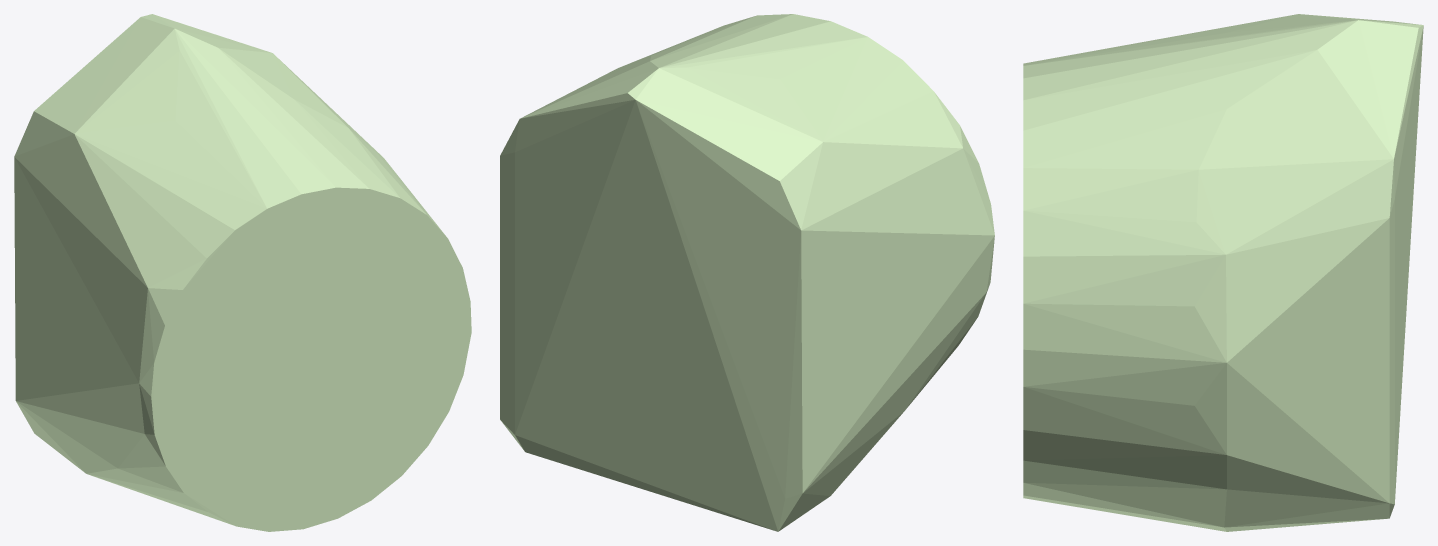
File: kuka_URDF_robot_base_coll_1.dae
3 views of the same model, side by side, from view 1: azimuth 30°, elevation 25°; view 2: azimuth 150°, elevation 25°; view 3: azimuth 270°, elevation 25° (orthographic). The views are drawn at different scales.
Visible parts, largest first — view 1: Node_0000020FCC5901C0; view 2: Node_0000020FCC5901C0; view 3: Node_0000020FCC5901C0.
Boxes of the visible parts, <box> form: Node_0000020FCC5901C0: <box>14,14,471,531</box>; Node_0000020FCC5901C0: <box>500,14,994,531</box>; Node_0000020FCC5901C0: <box>1023,14,1423,531</box>.
Size of the model in its own units: 0.1871 by 0.2105 by 0.1575.
